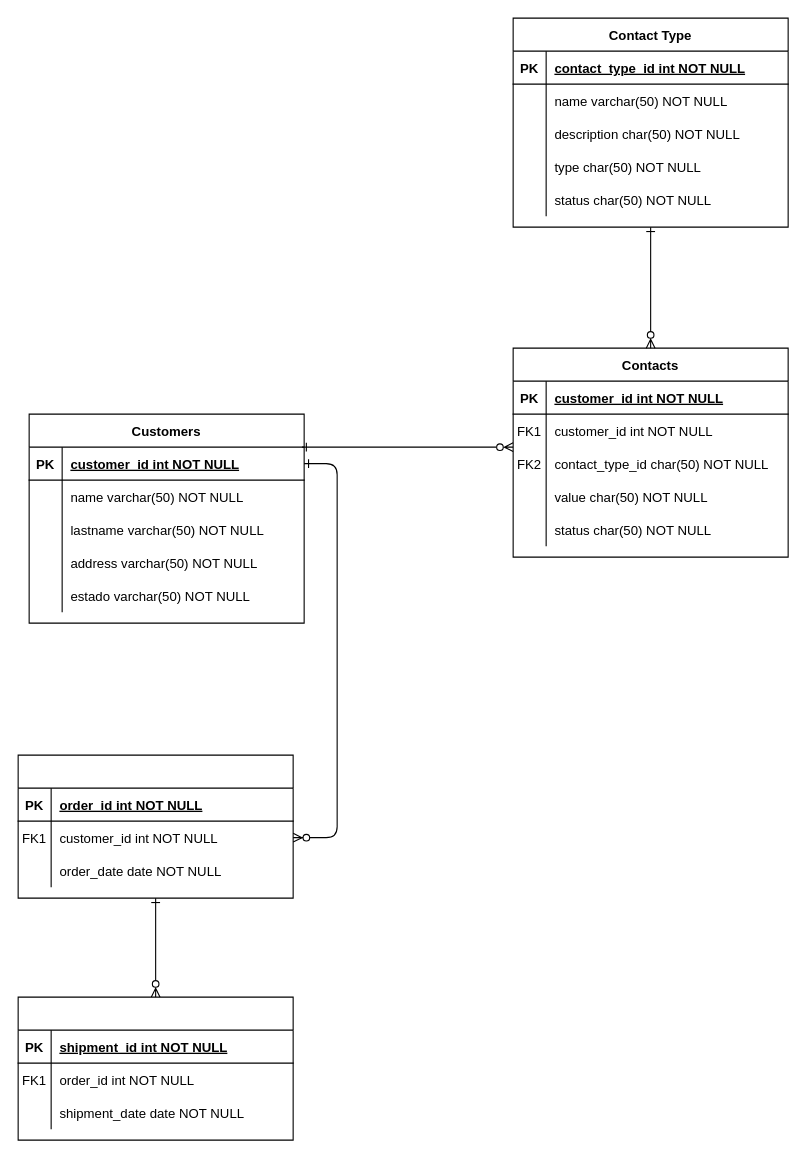
Some shapes in this 806 by 1158 pixel diagram are drawn without their labels. The box of each missing label's shape, as (x1, y1, x2, y2) in pixels:
Orders: (17, 754, 293, 898)
Shipments: (17, 996, 293, 1140)
